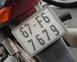6: (33, 32, 48, 48), (17, 25, 31, 41), (39, 10, 53, 25)
7: (22, 21, 35, 37), (25, 38, 38, 54), (40, 27, 53, 43)
9: (48, 22, 62, 37)
F: (33, 14, 46, 30)
